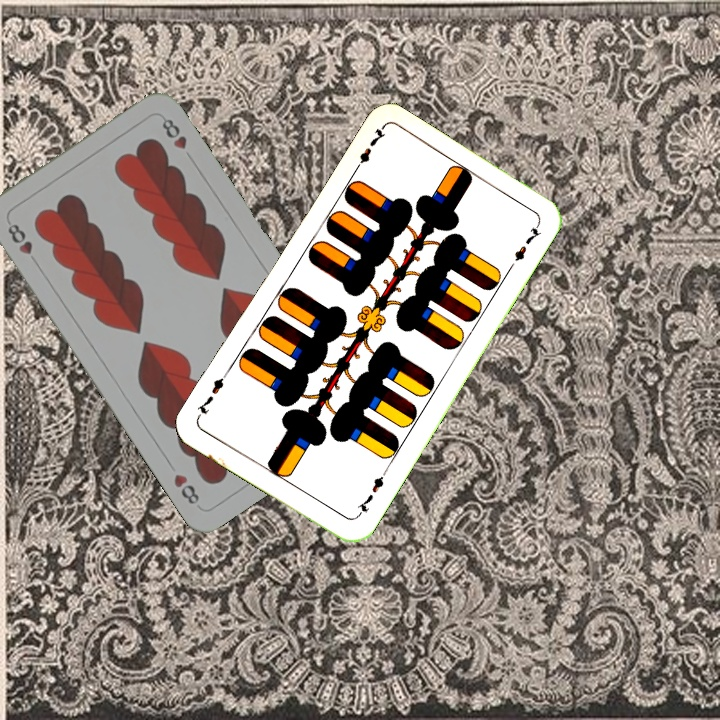E7: (348, 124, 388, 177), (352, 466, 389, 520)
H8: (3, 219, 36, 258)
